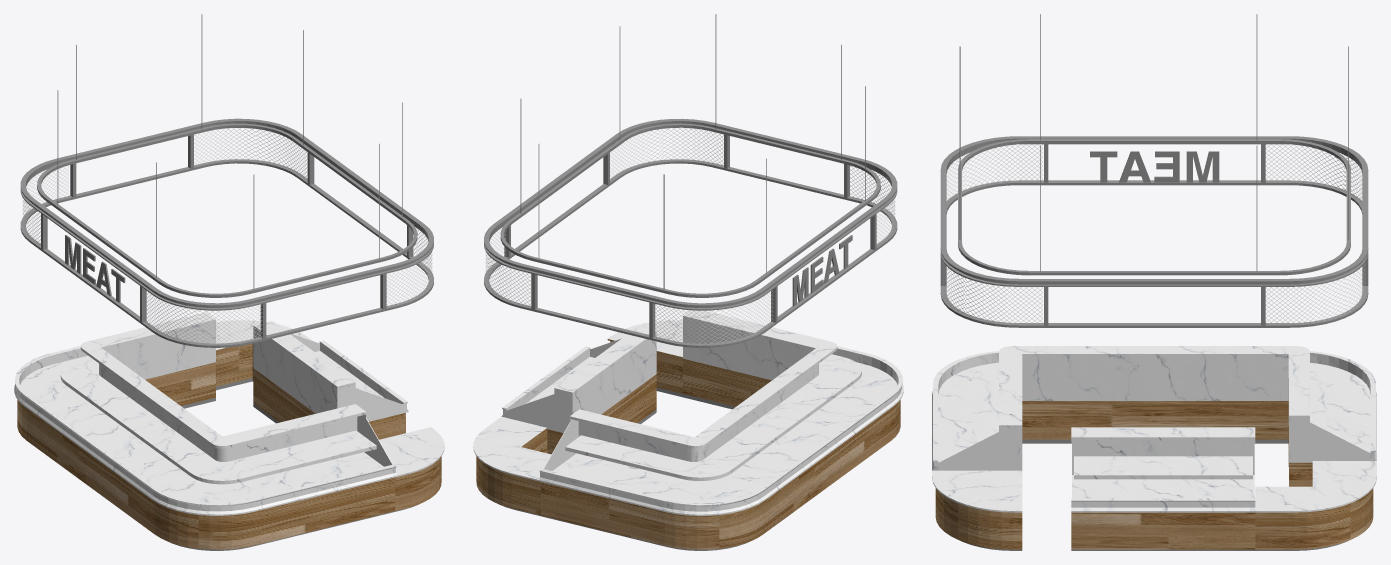
Rendered from nunChanping.glb.
3 renders of one model, left to right at view 1: azimuth 30°, elevation 25°; view 2: azimuth 150°, elevation 25°; view 3: azimuth 270°, elevation 25°, orthographic. The views are drawn at different scales.
Visible parts, largest first — view 1: nunChanping; view 2: nunChanping; view 3: nunChanping.
Part boxes in pixels (left/top/right/bottom): nunChanping: left=14, top=14, right=444, bottom=550; nunChanping: left=473, top=14, right=903, bottom=550; nunChanping: left=932, top=14, right=1376, bottom=550.
Bounding box in the file's own units: 4.2 × 5.17 × 5.23.
4 materials, 3 textured.
